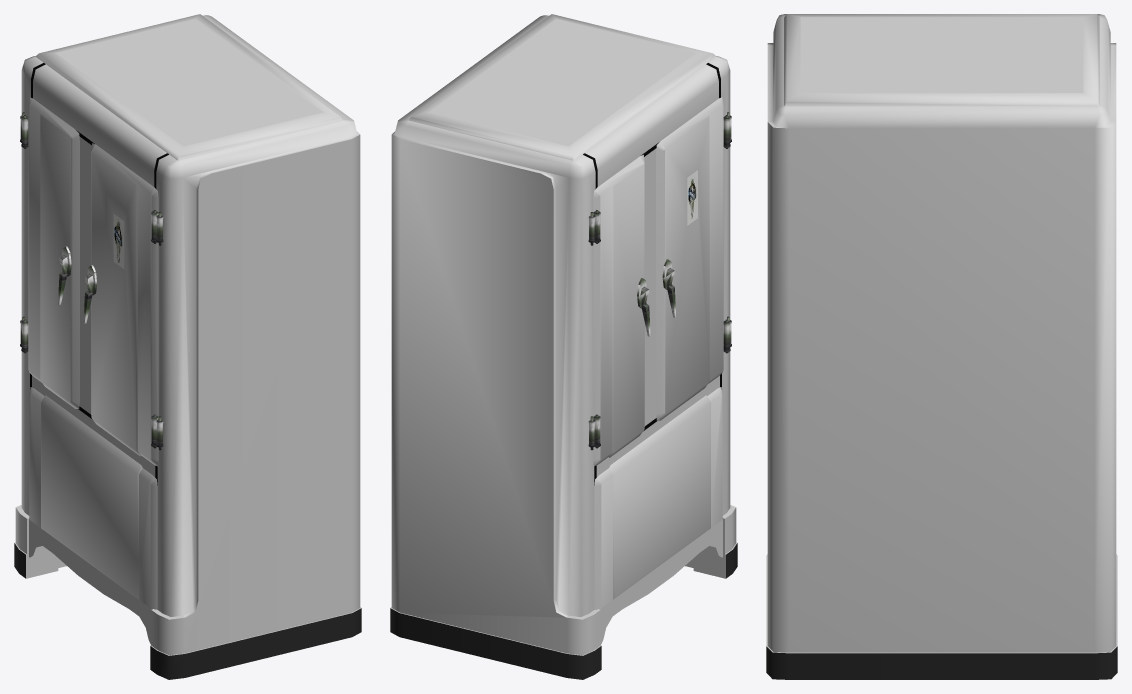
The picture shows the model from 3 angles, left to right: view 1: azimuth 30°, elevation 25°; view 2: azimuth 150°, elevation 25°; view 3: azimuth 270°, elevation 25°; orthographic projection. The views are drawn at different scales.
Visible parts, largest first — view 1: SketchUp (×3); view 2: SketchUp (×3); view 3: SketchUp (×2).
Part boxes in pixels (x1,y1,x2,y2): SketchUp (×3): [14, 14, 361, 679]; SketchUp (×3): [390, 14, 737, 679]; SketchUp (×2): [766, 14, 1117, 679].
Size of the model in its own units: 27.95 by 37.25 by 67.
5 materials, 2 textured.
